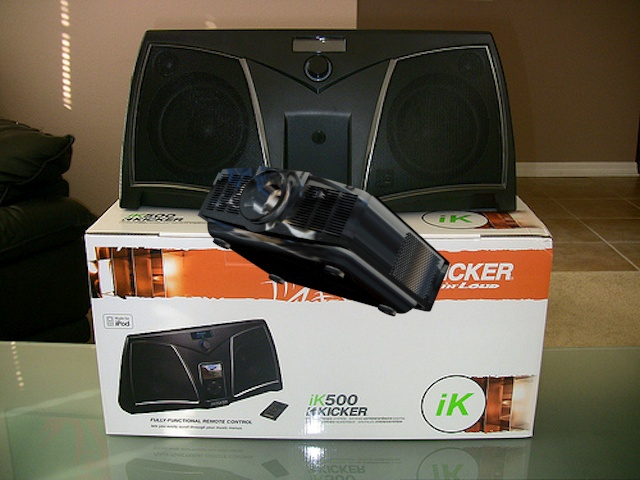projector: (193, 160, 456, 320)
